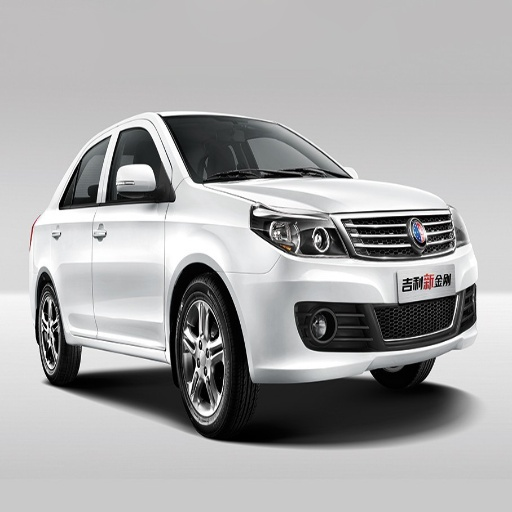front_bumper: (229, 213, 479, 379)
front_right_door: (93, 120, 170, 346)
front_right_light: (251, 207, 347, 257)
